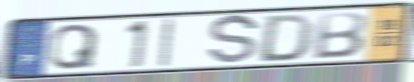1: (123, 19, 149, 69)
B: (309, 11, 369, 61)
D: (255, 12, 317, 64)
I: (157, 16, 176, 70)
Q: (47, 23, 101, 72)
S: (205, 12, 262, 67)
